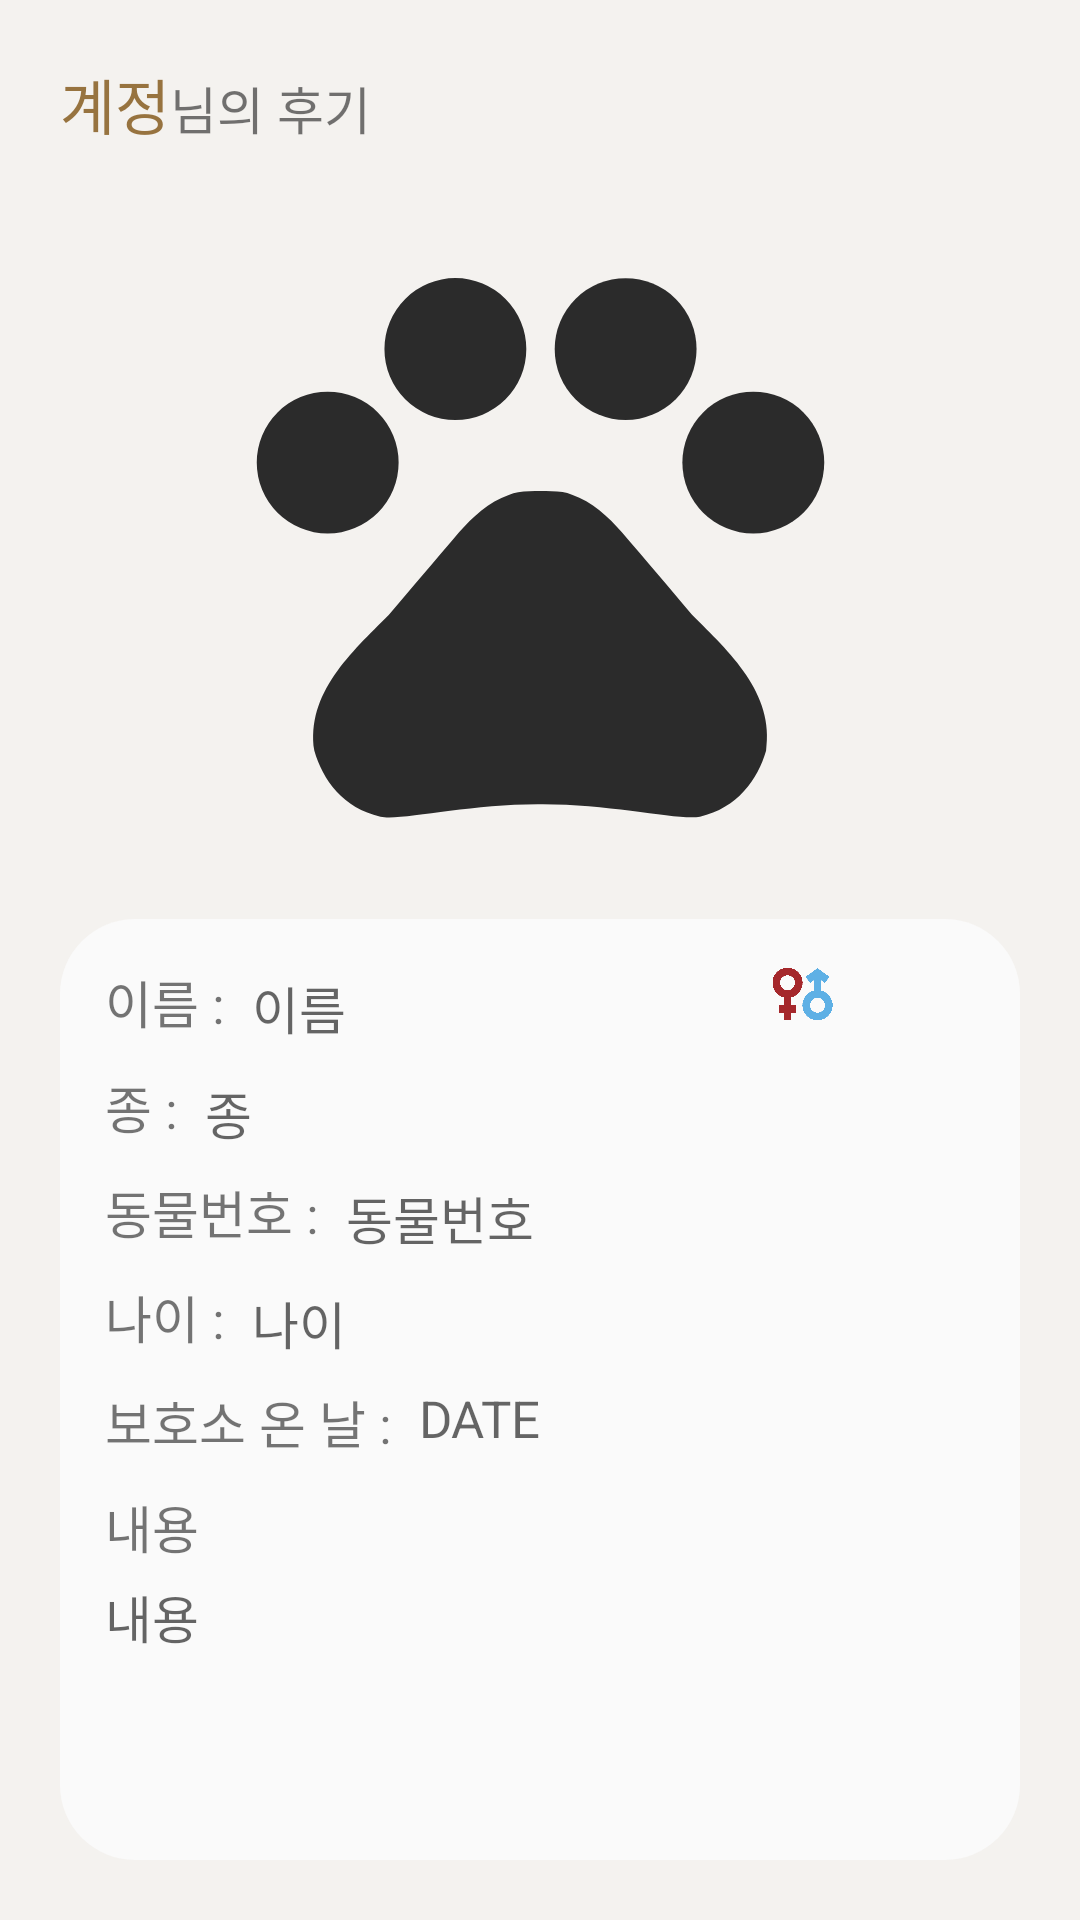

Named icons in this screenshot (1080w x 1920h) and their bounding boxes, Rect(x1, y1, x2, y2):
gender: Rect(773, 968, 833, 1020)
